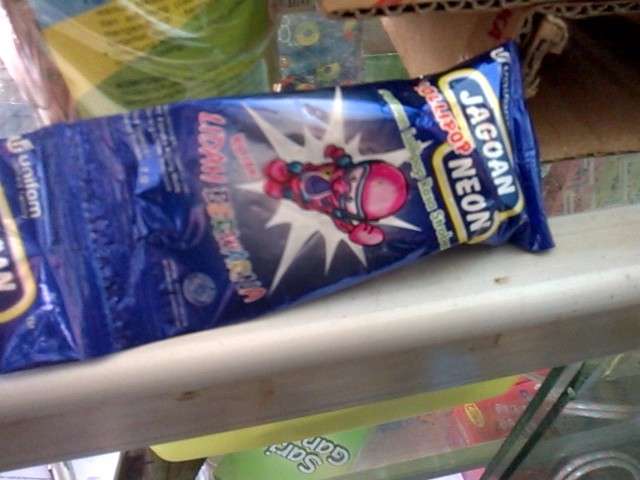jagoan neon: (74, 40, 555, 348)
